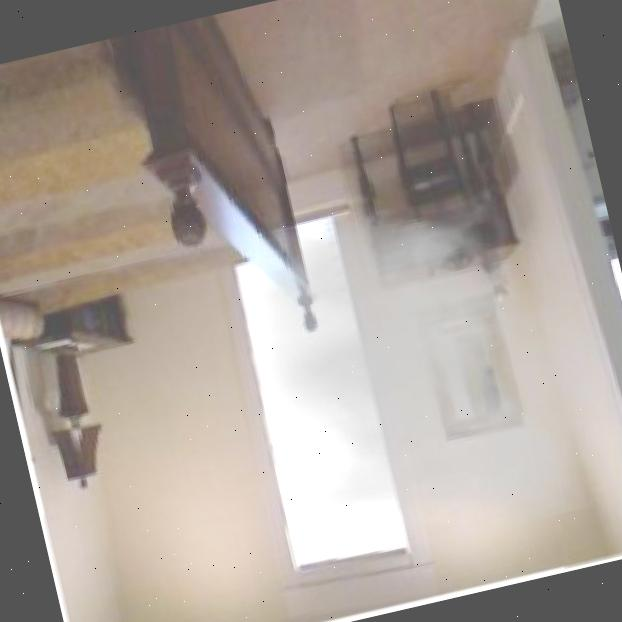smoke: (238, 194, 564, 545)
